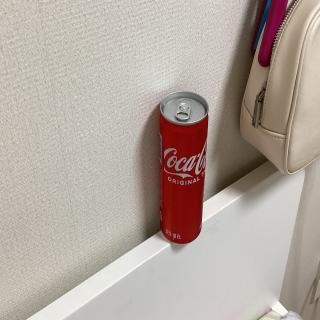cocacola: (156, 90, 206, 250)
